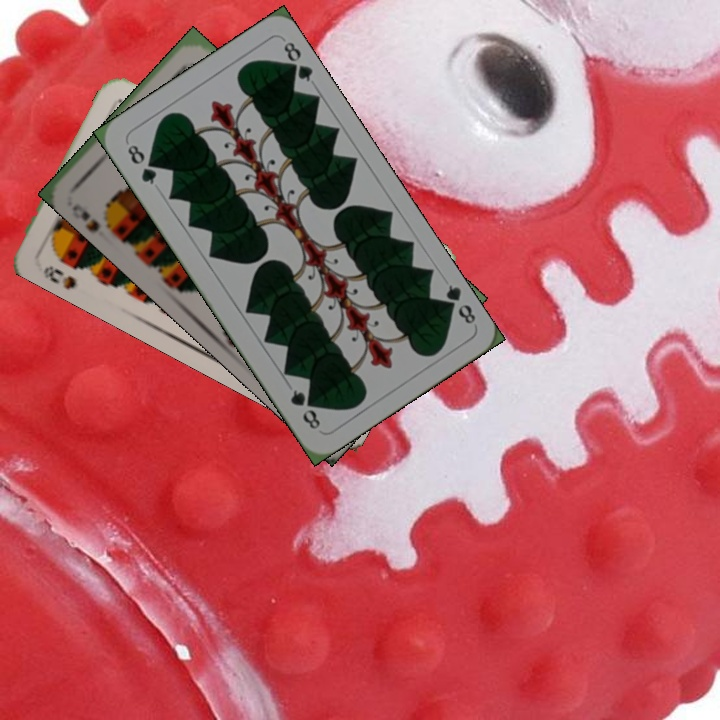G8: (437, 280, 479, 327), (123, 140, 160, 188)
S8: (39, 261, 79, 292)
S9: (68, 199, 120, 236)
